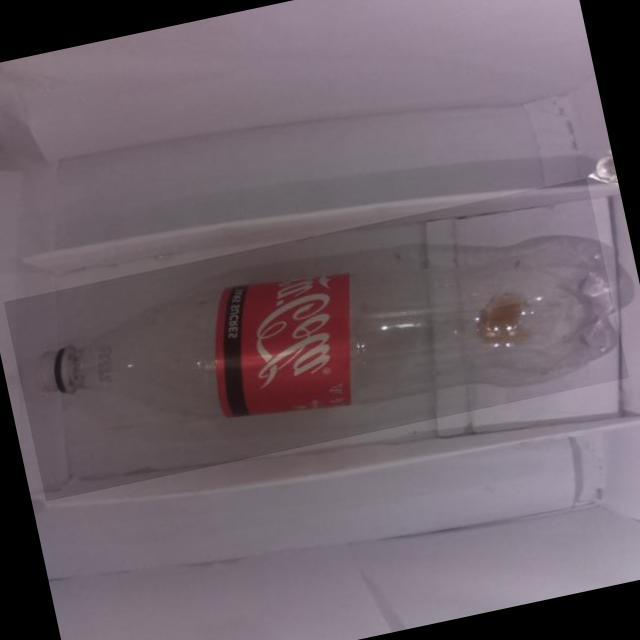good: (3, 177, 628, 500)
